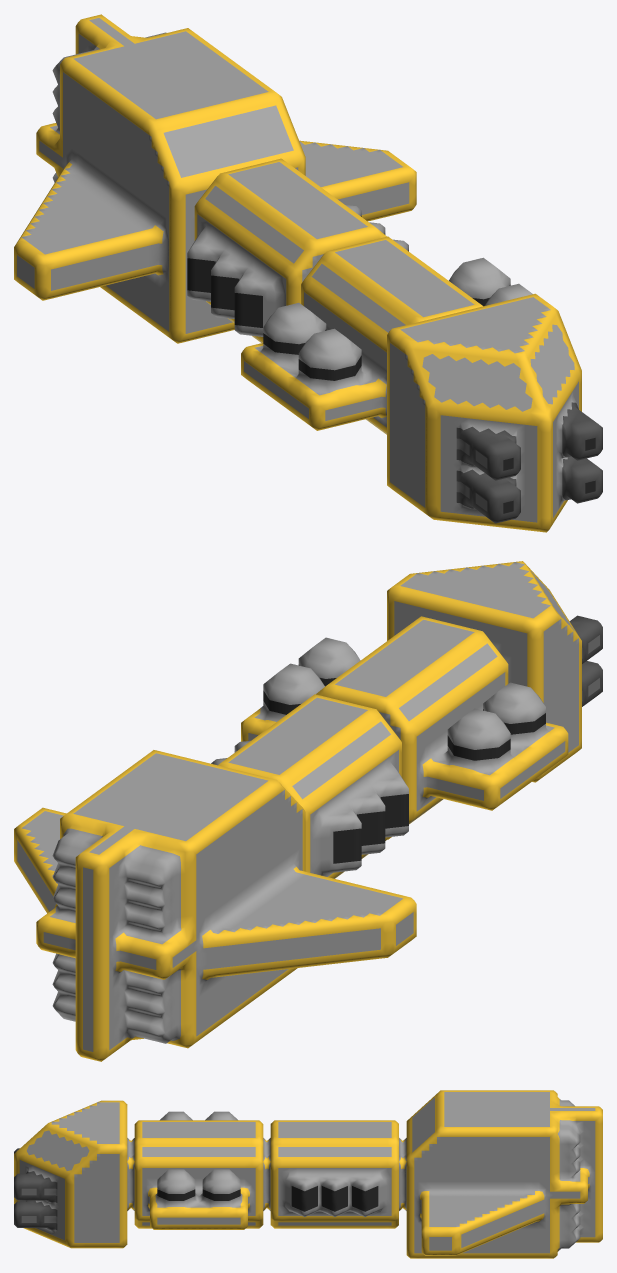
File: mechyrdia-3-karolina-class.obj
The picture shows the model from 3 angles, top to bottom: view 1: azimuth 30°, elevation 25°; view 2: azimuth 150°, elevation 25°; view 3: azimuth 270°, elevation 25°; orthographic projection. The views are drawn at different scales.
Bounding box in the file's own units: 37 × 19 × 78.
Materials: 1 (1 with a texture image).
